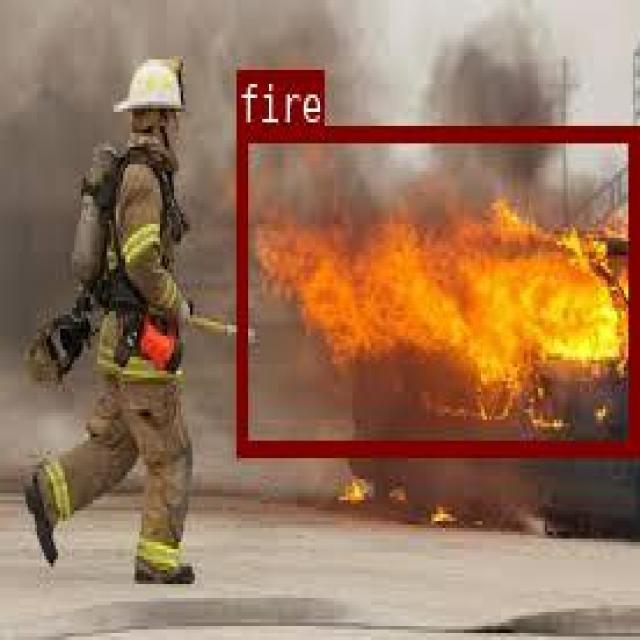fire: (235, 125, 635, 451)
